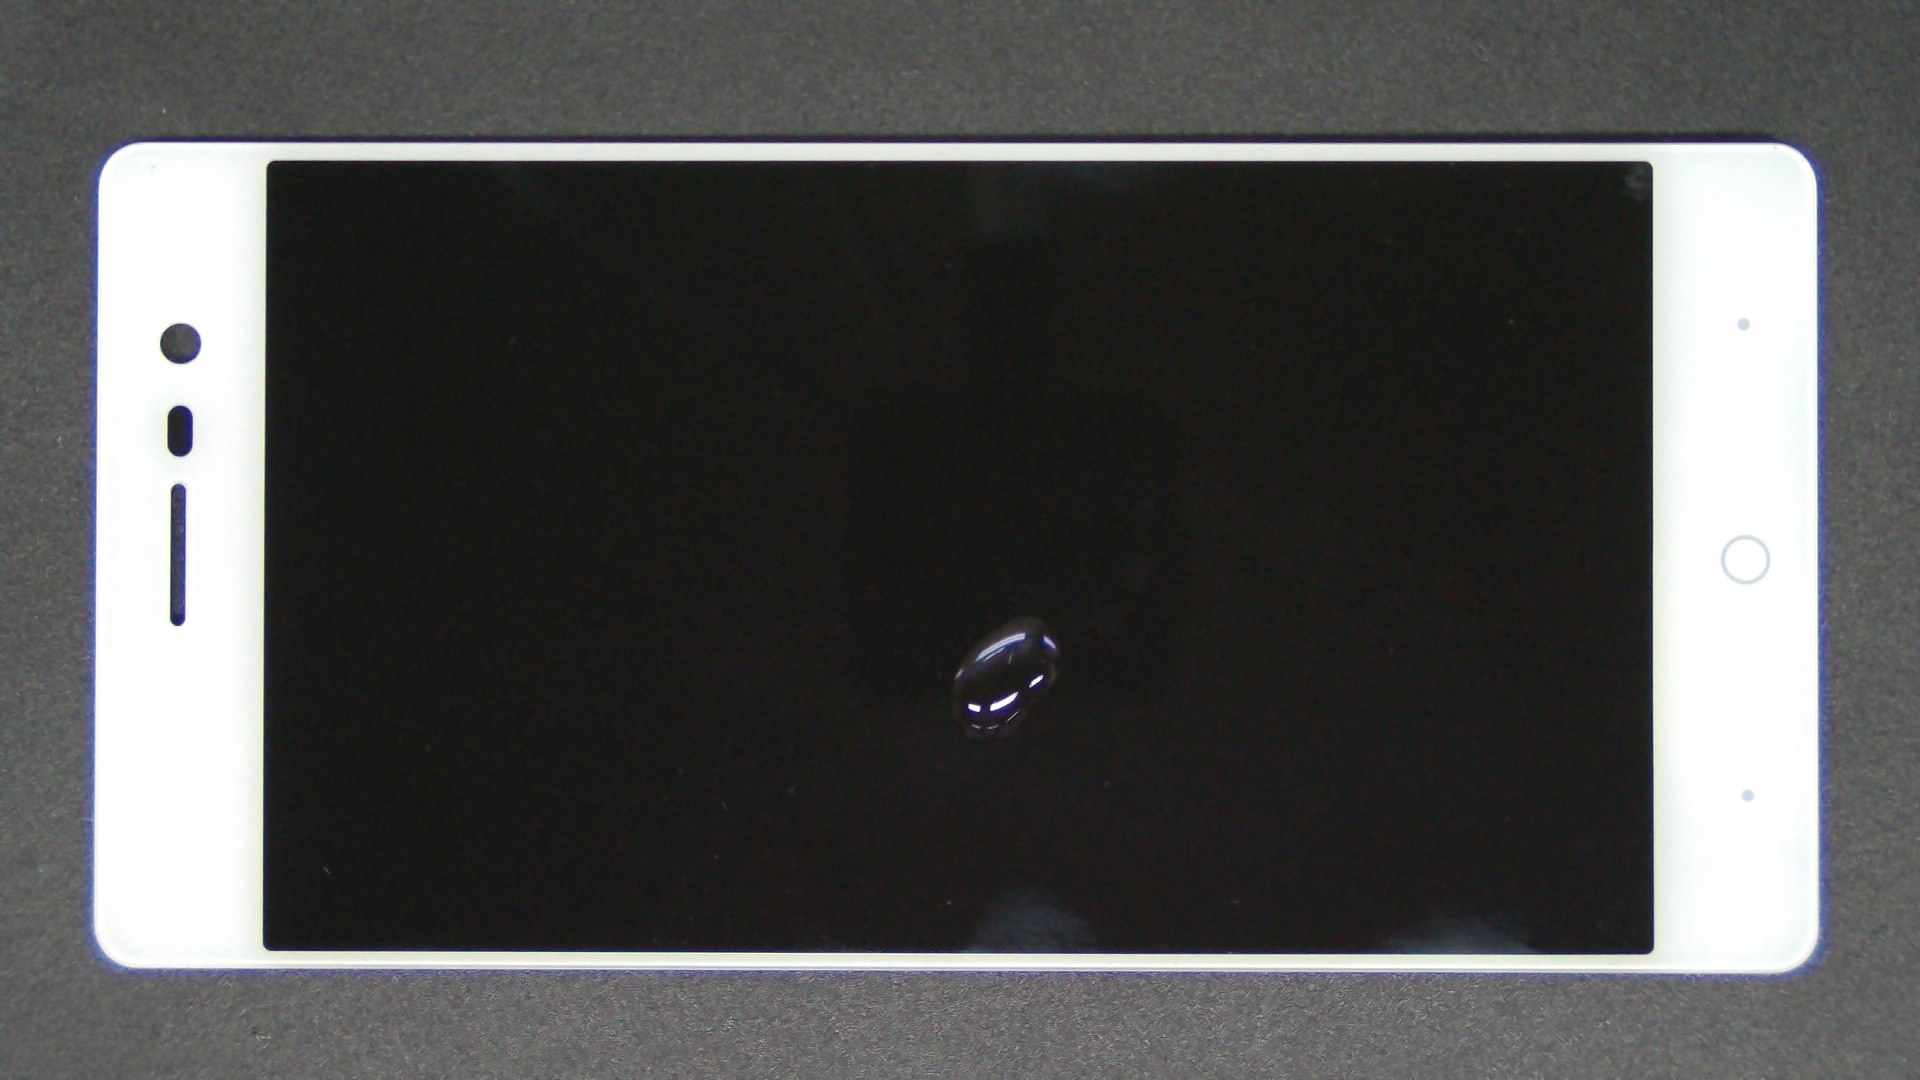defect: (952, 616, 1060, 738)
